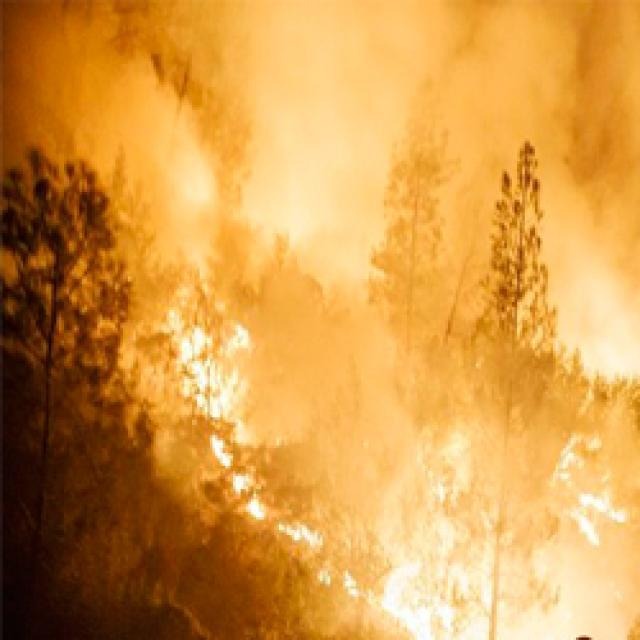Fire: (307, 368, 640, 640), (122, 255, 353, 582)
Smoke: (0, 0, 640, 338)
